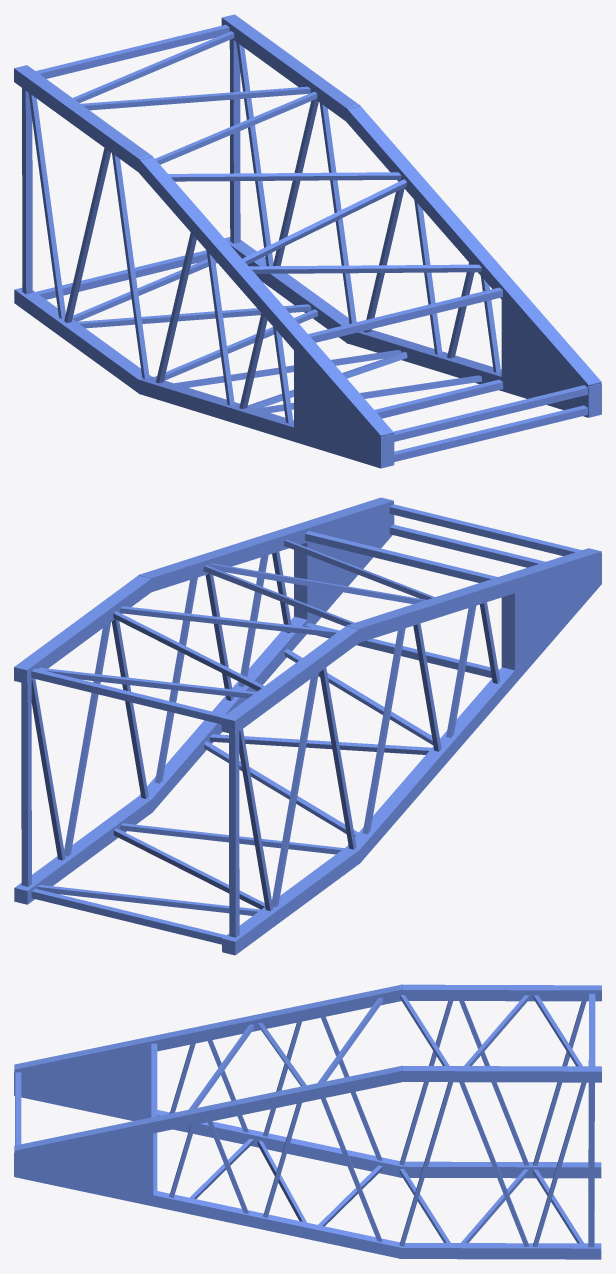
Rendered from swingArmBoomFirst.glb.
The picture shows the model from 3 angles, top to bottom: view 1: azimuth 30°, elevation 25°; view 2: azimuth 150°, elevation 25°; view 3: azimuth 270°, elevation 25°; orthographic projection. The views are drawn at different scales.
Parts seen in each view (by area): view 1: swingArmBoomFirst; view 2: swingArmBoomFirst; view 3: swingArmBoomFirst.
Part boxes in pixels (x1=…): swingArmBoomFirst: x1=14, y1=14, x2=601, y2=468; swingArmBoomFirst: x1=14, y1=497, x2=601, y2=955; swingArmBoomFirst: x1=14, y1=984, x2=601, y2=1259.
Size of the model in its own units: 84.05 by 85.77 by 242.
